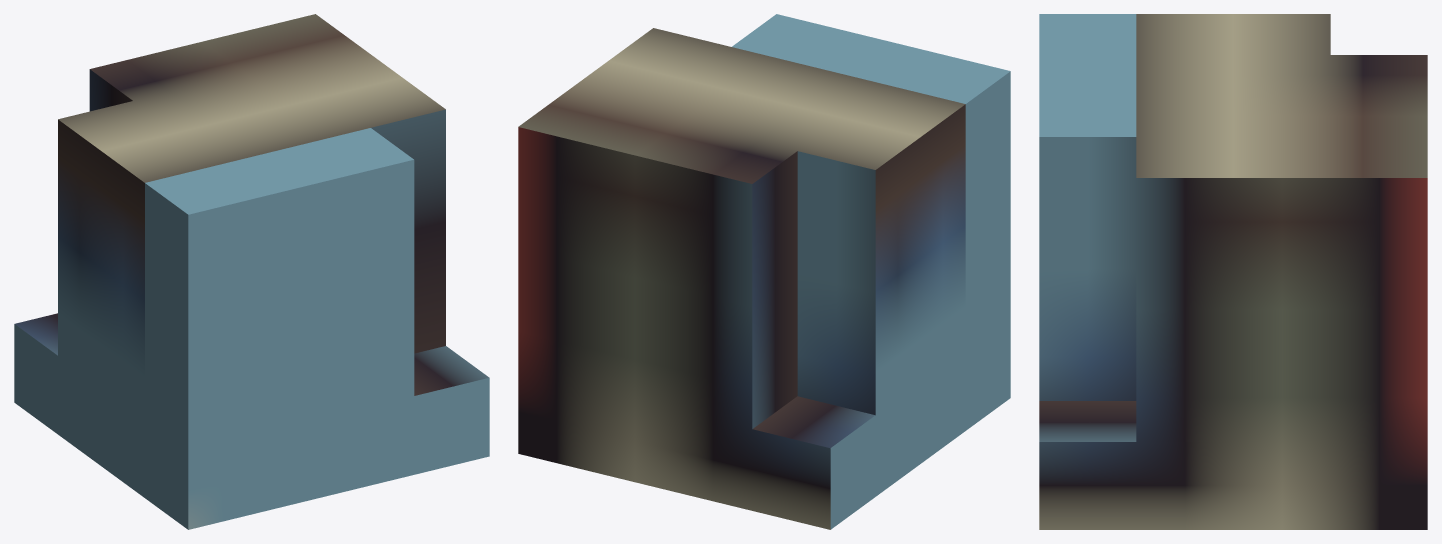
Rendered from casa1_cantonada_baix.fbx.
The picture shows the model from 3 angles, left to right: view 1: azimuth 30°, elevation 25°; view 2: azimuth 150°, elevation 25°; view 3: azimuth 270°, elevation 25°; orthographic projection. The views are drawn at different scales.
Visible parts, largest first — view 1: Wall1.009; view 2: Wall1.009; view 3: Wall1.009.
Part boxes in pixels (left/top/right/bottom): Wall1.009: left=14, top=14, right=489, bottom=529; Wall1.009: left=518, top=14, right=1010, bottom=529; Wall1.009: left=1039, top=14, right=1427, bottom=529.
Size of the model in its own units: 100 by 100 by 100.
